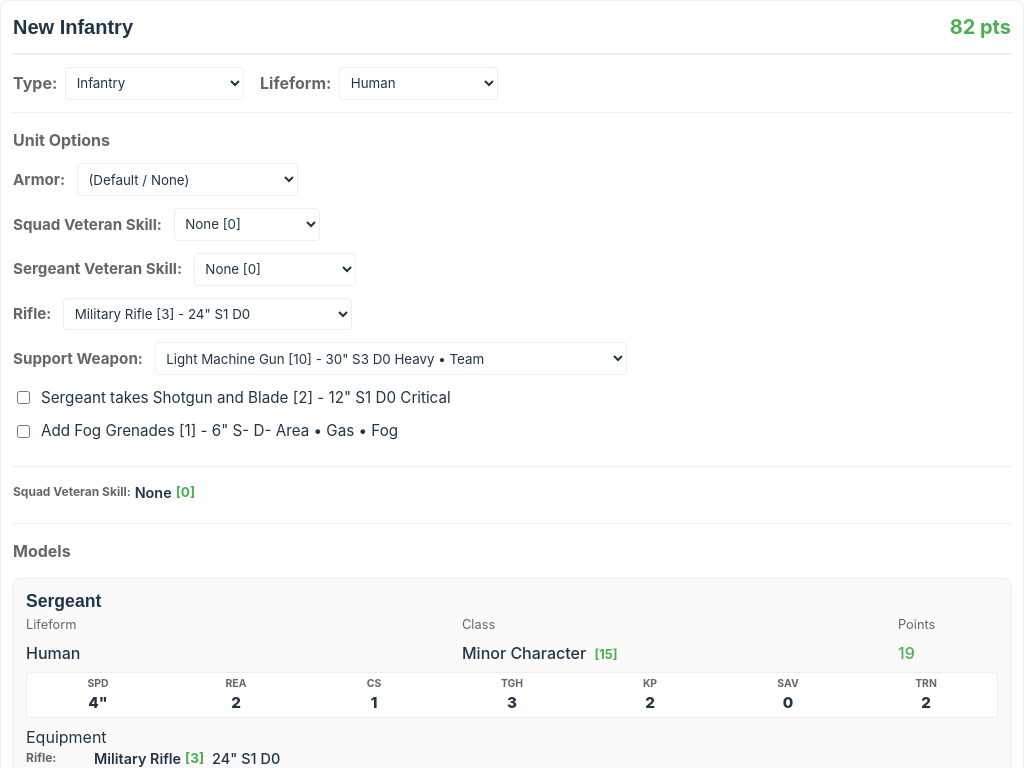
Scenario: UnitEditor Component › selects unit option choice
Select "Plasma Rifle [8] - 20\" S2 D1 Focused • Piercing • Overheat • Team" in the dropdown labelled "Support Weapon:": (391, 359) [155,342,627,375]
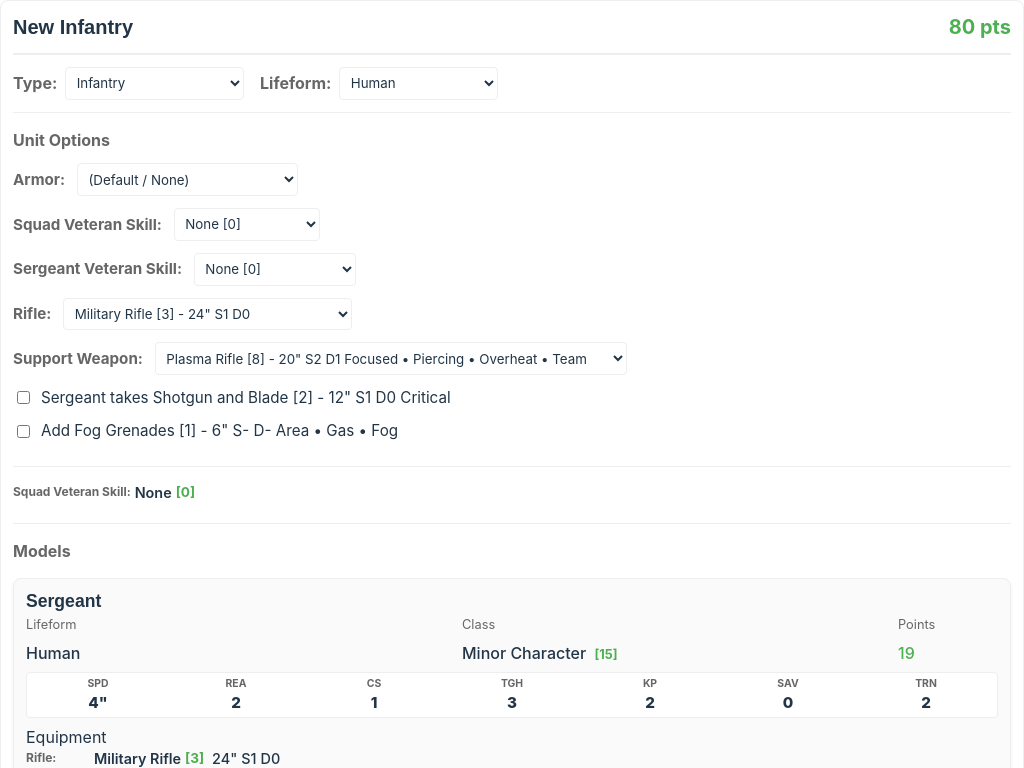
Result: the text with class "unit-points" reads "80 pts" at [949,15,1011,39]
